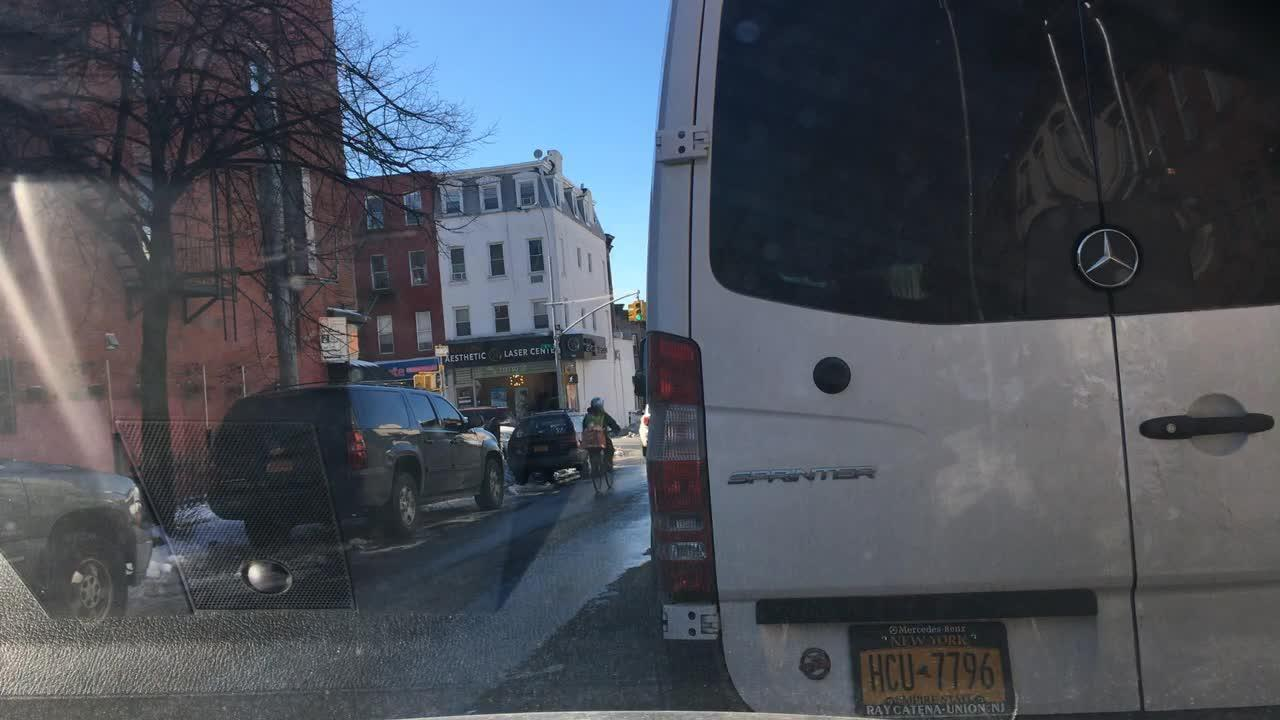Mercedes: (1072, 207, 1148, 294)
